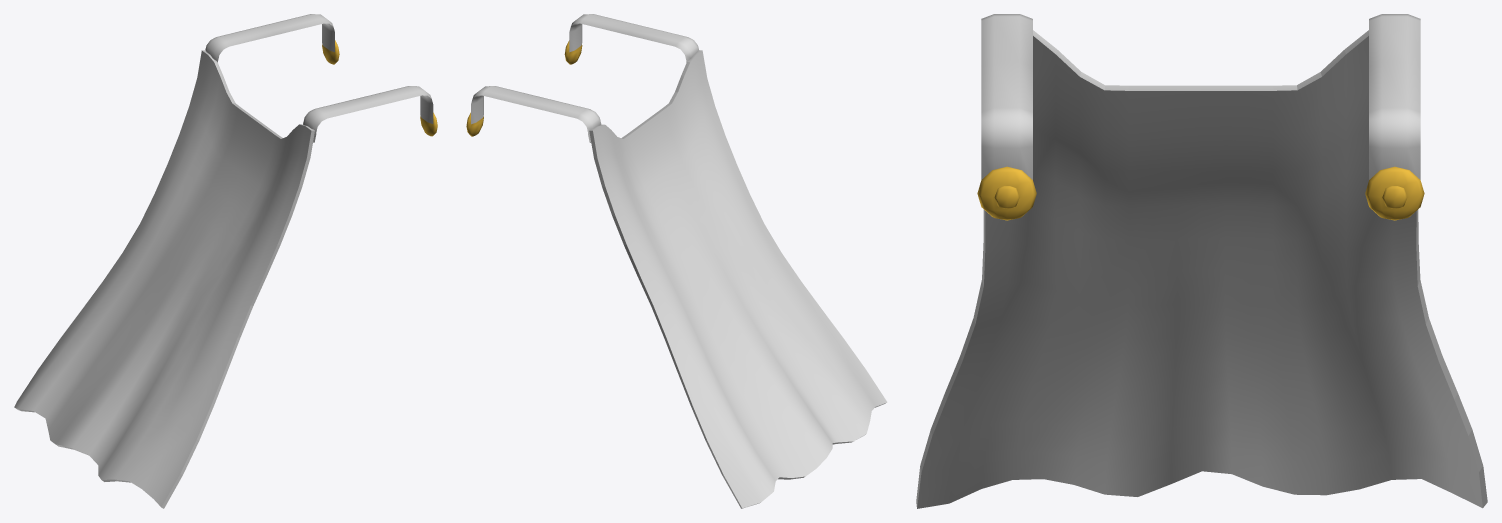
File: acc_cape.glb
The picture shows the model from 3 angles, left to right: view 1: azimuth 30°, elevation 25°; view 2: azimuth 150°, elevation 25°; view 3: azimuth 270°, elevation 25°; orthographic projection. The views are drawn at different scales.
Visible parts, largest first — view 1: acc_cape; view 2: acc_cape; view 3: acc_cape.
Part boxes in pixels (x1=…): acc_cape: x1=14, y1=14, x2=437, y2=508; acc_cape: x1=466, y1=14, x2=887, y2=508; acc_cape: x1=916, y1=14, x2=1487, y2=508.
Bounding box in the file's own units: 1.12 × 1.14 × 0.8845.
